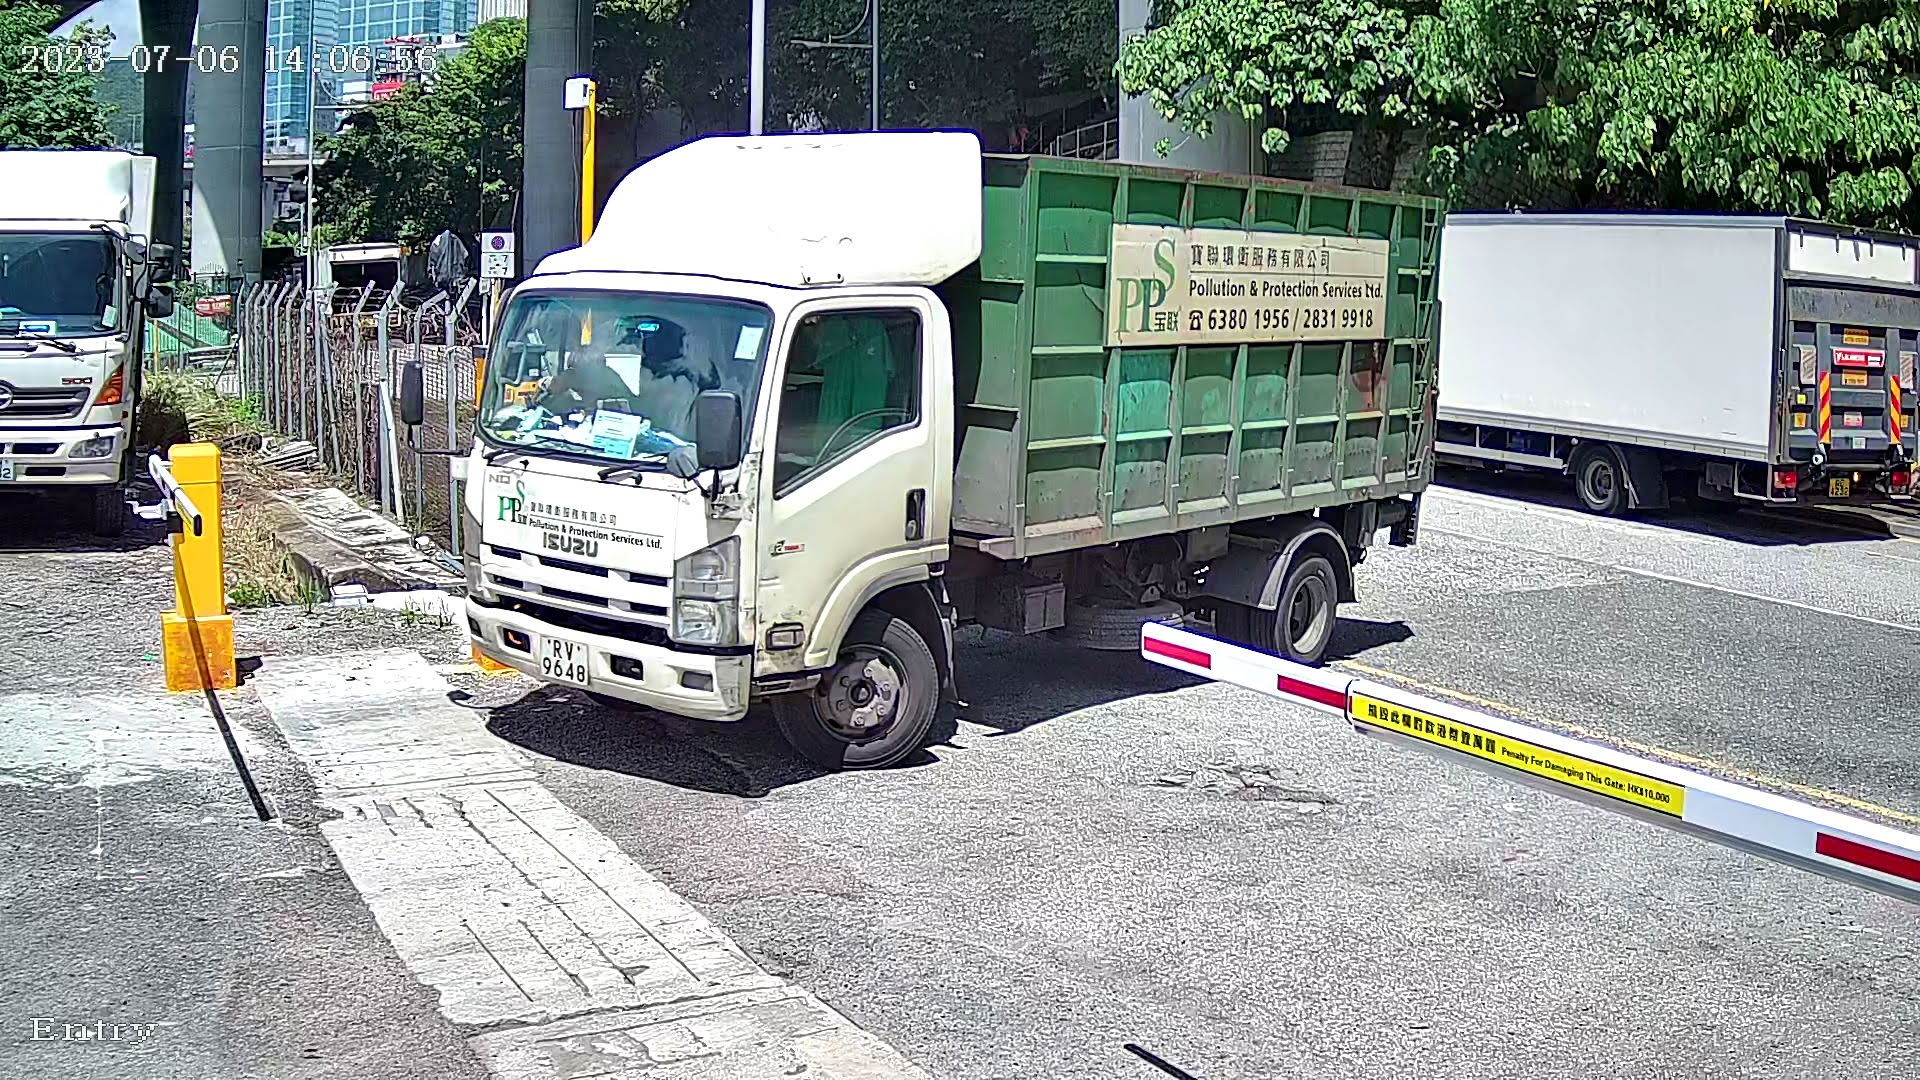truck: (371, 80, 1482, 825)
